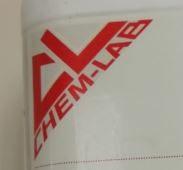ChemLab: (31, 17, 156, 160)
